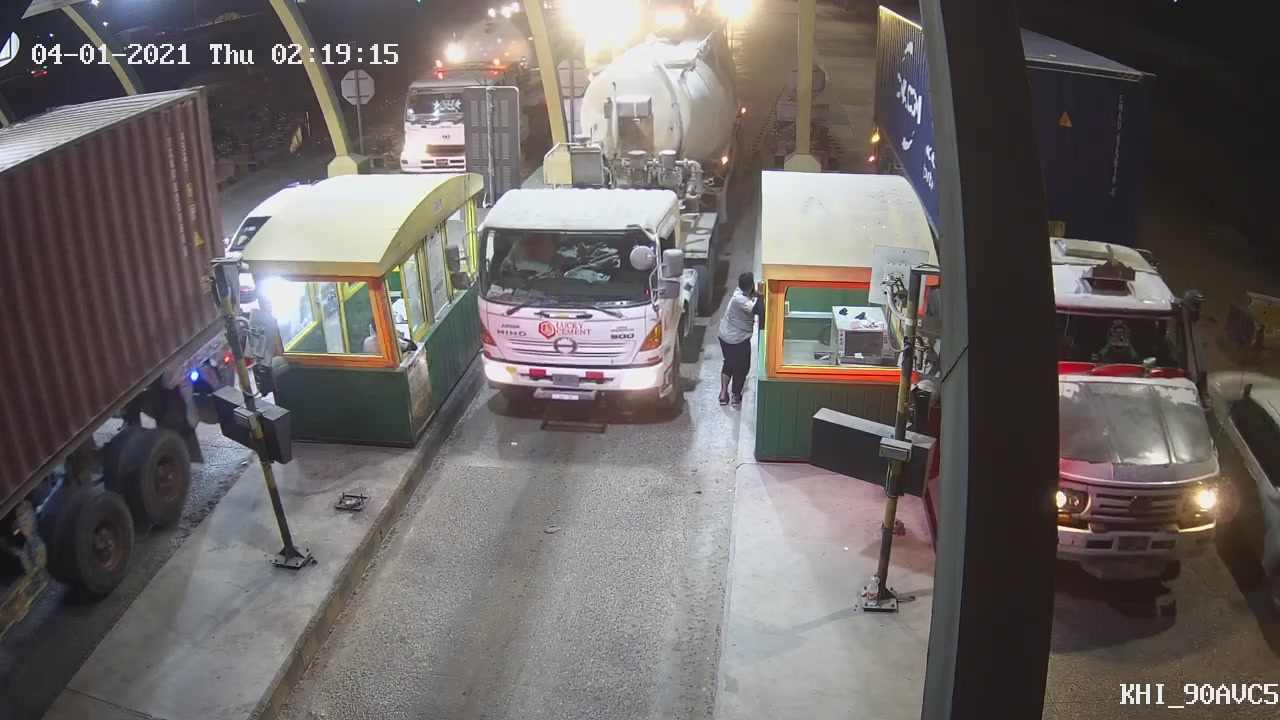F5: (438, 11, 756, 435)
